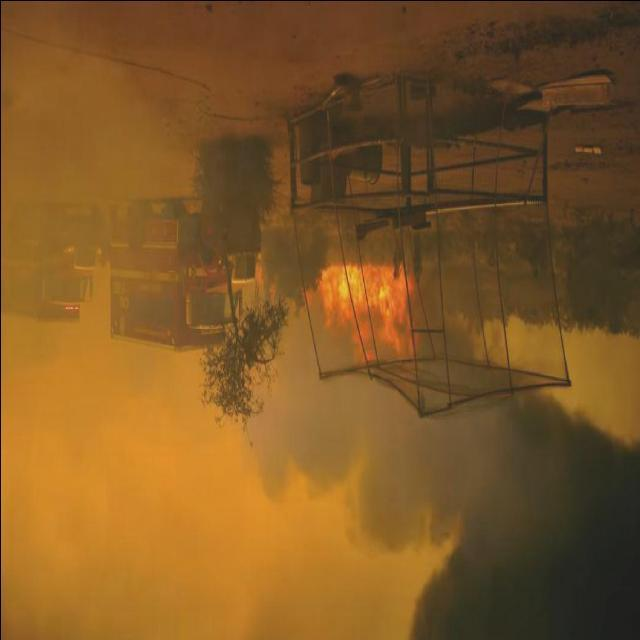Fire: (308, 252, 422, 374)
